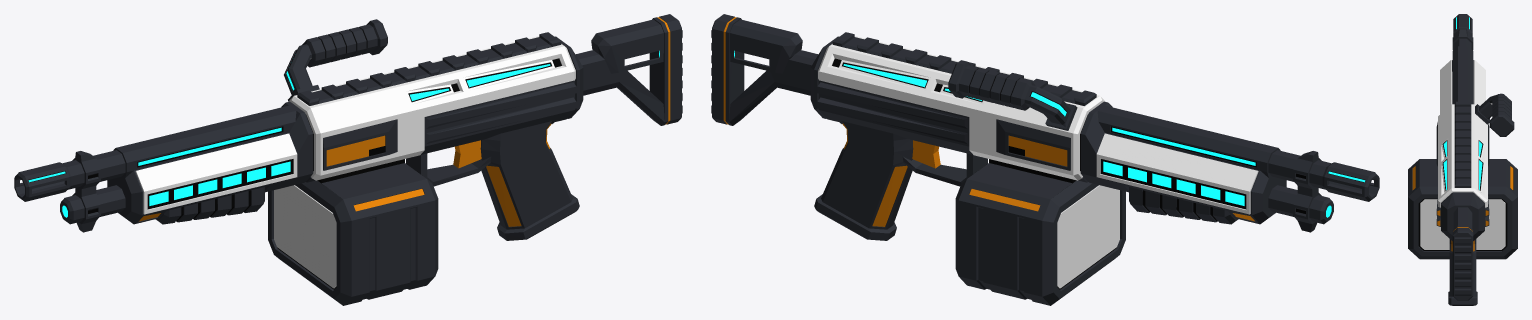
File: SM_Light_Machine_Gun.fbx
3 views of the same model, side by side, from view 1: azimuth 30°, elevation 25°; view 2: azimuth 150°, elevation 25°; view 3: azimuth 270°, elevation 25° (orthographic). The views are drawn at different scales.
Parts seen in each view (by area): view 1: SM_Light_Machine_Gun, SM_Light_Machine_Gun_Magazine; view 2: SM_Light_Machine_Gun, SM_Light_Machine_Gun_Magazine; view 3: SM_Light_Machine_Gun, SM_Light_Machine_Gun_Magazine.
Boxes of the visible parts, x1,y1,x2,y2 form: SM_Light_Machine_Gun: (14,14,682,240); SM_Light_Machine_Gun_Magazine: (268,159,438,305); SM_Light_Machine_Gun: (711,14,1379,240); SM_Light_Machine_Gun_Magazine: (955,159,1125,305); SM_Light_Machine_Gun: (1436,14,1514,305); SM_Light_Machine_Gun_Magazine: (1408,159,1517,259).
Bounding box in the file's own units: 103 × 33.37 × 22.01.
